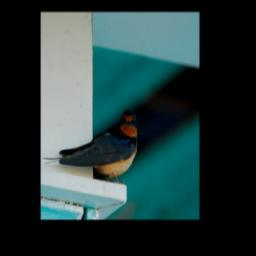Swallow: (42, 105, 140, 183)
